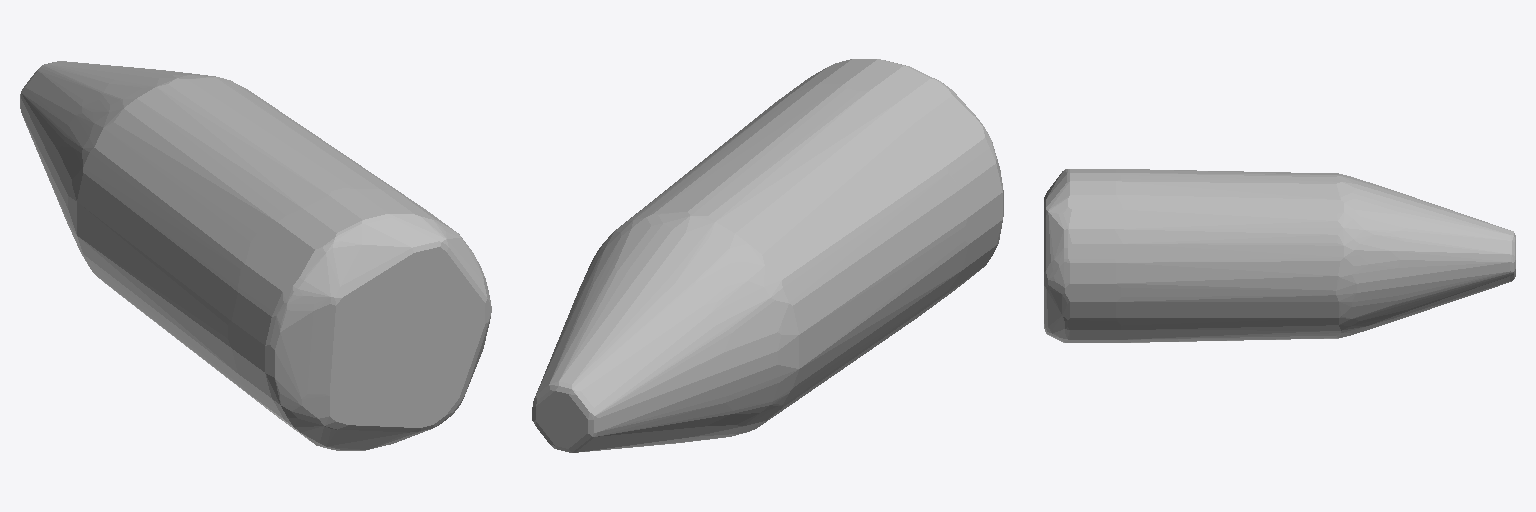
robot.urdf — root:
<?xml version="1.0"?>
<robot name="root">
  <link name="base_link">
    <visual>
      <origin xyz="0 0 0" rpy="0 0 0" />
      <geometry>
        <mesh filename="../meshes/unidex_core_bottle-a429f8eb0c3e6a1e6ea2d79f658bbae7_006.obj" scale="1.0000E+00 1.0000E+00 1.0000E+00" />
      </geometry>
      <material name="">
        <color rgba="7.50E-01 7.50E-01 7.50E-01 1" />
      </material>
    </visual>
    <collision>
      <origin xyz="0 0 0" rpy="0 0 0" />
      <geometry>
        <mesh filename="../meshes/unidex_core_bottle-a429f8eb0c3e6a1e6ea2d79f658bbae7_006.obj" scale="1.0000E+00 1.0000E+00 1.0000E+00" />
      </geometry>
    </collision>
  </link>
</robot>

--- Facts derived from the render (not from the file) ---
Views: 3 orthographic renders of the robot side by side, from view 1: azimuth 30°, elevation 25°; view 2: azimuth 150°, elevation 25°; view 3: azimuth 270°, elevation 25°.
Model root with 1 links and 0 joints (none), rooted at base_link, posed every joint at zero.
Links seen in each view (by area): view 1: base_link; view 2: base_link; view 3: base_link.
Boxes of the visible links, x1,y1,x2,y2 form: base_link: (20, 61, 491, 450); base_link: (532, 59, 1003, 452); base_link: (1044, 169, 1515, 342).
Size in the robot's own frame: 0.0414 by 0.1119 by 0.0414 metres.
1 mesh visuals loaded from 1 distinct referenced files (1 OBJ).
